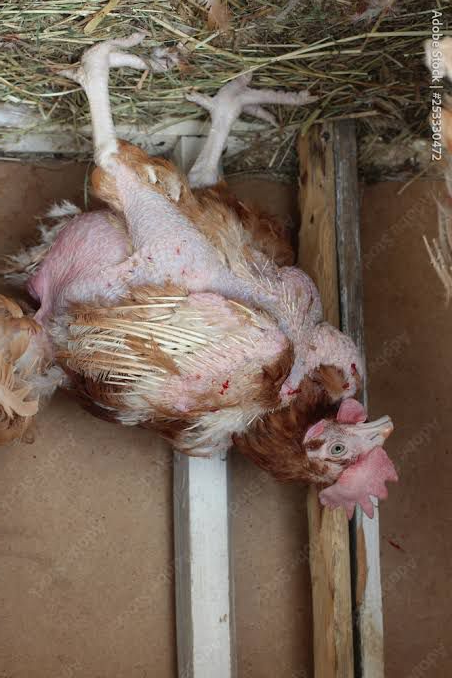Unhealthy: (3, 28, 407, 517)
